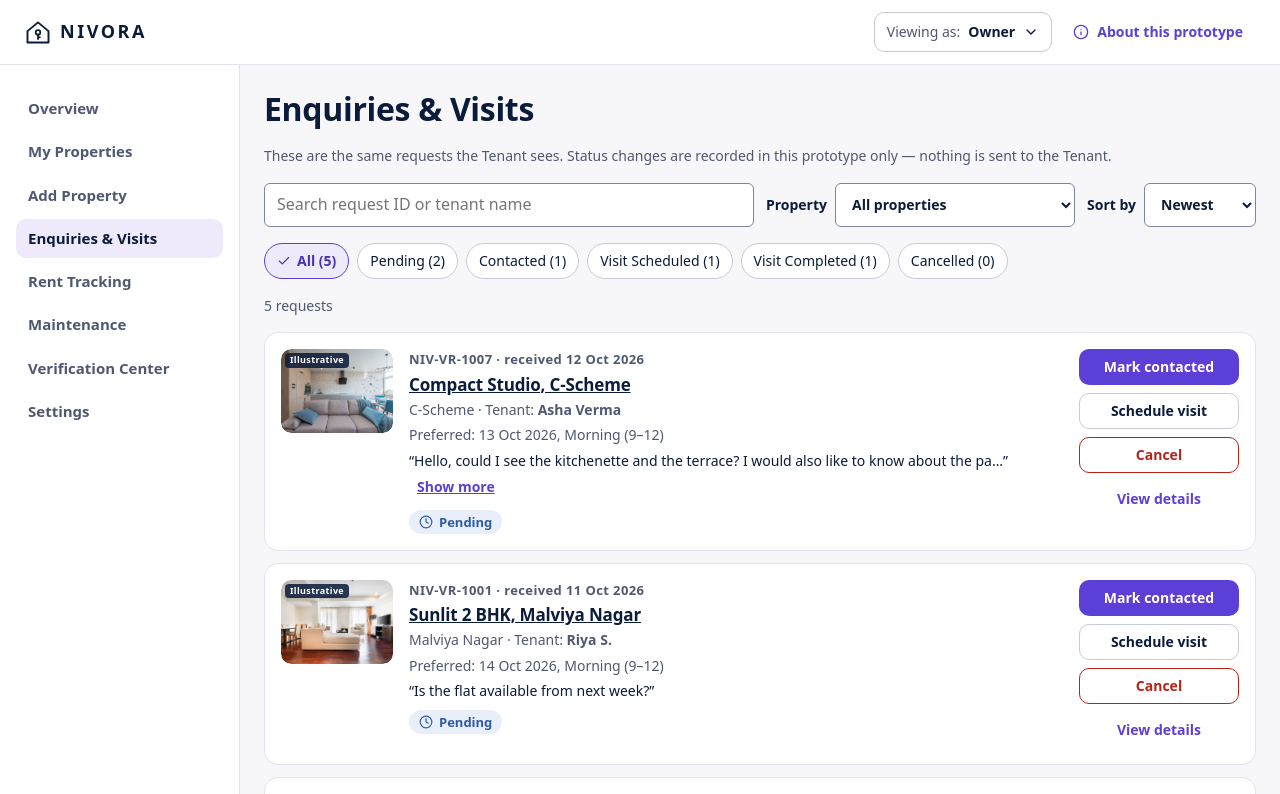
Test: O-07 Enquiries & Visits (AC-14, AC-15, AC-23, AC-26 owner side) › expands a long message
Expected: the text "…" is shown, [409,450,1063,502]
Click the button "Show more": (456, 487) [417,472,495,502]
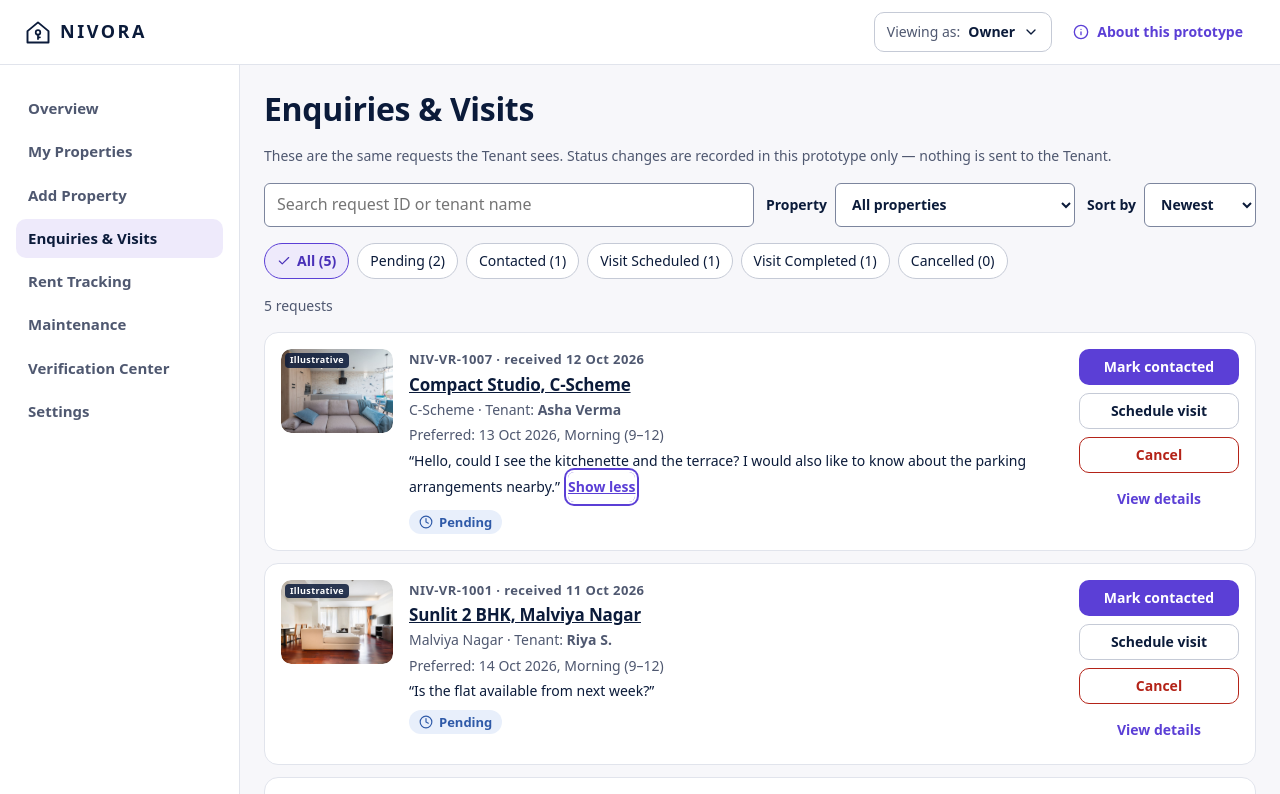
Result: the text "parking arrangements nearby" is shown at [409,451,1026,496]
